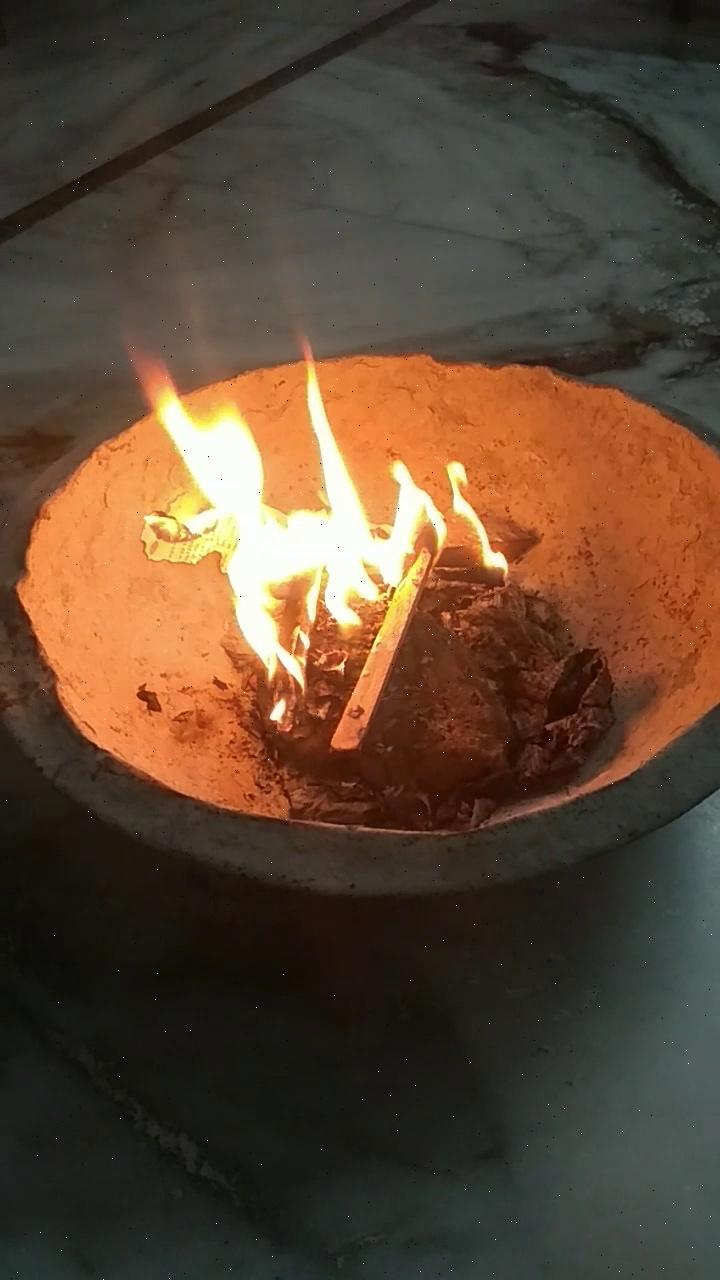fire: (114, 304, 534, 694)
